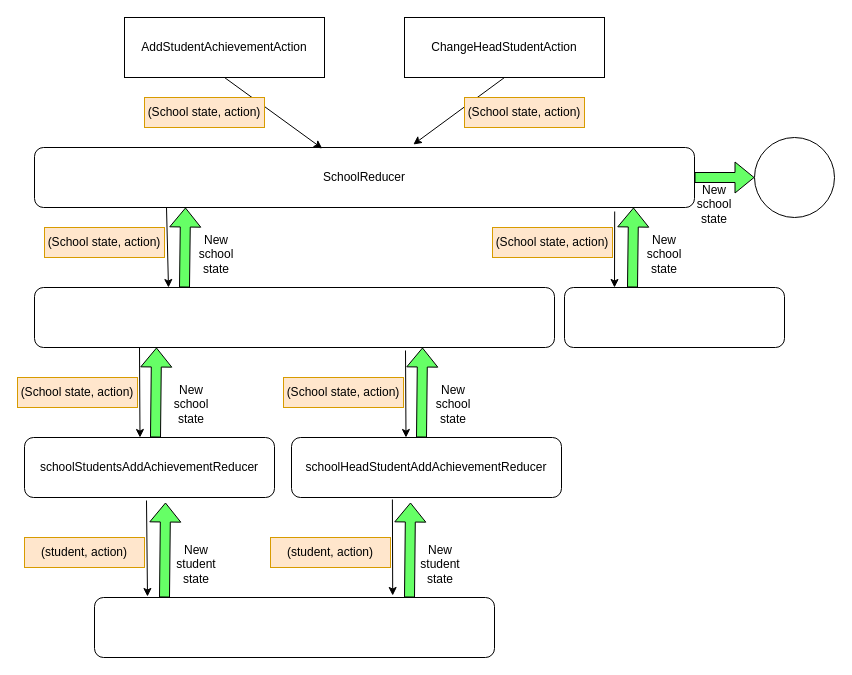
Some shapes in this 852 by 675 pixel diagram are drawn without their labels. The shapes that lost their labels are listed below. From the top down, each one's centre as x and y in pixels, then its label:
At [794,177]: "School state".
At [294,317]: "schoolAddStudentAchievementReducer".
At [674,317]: "schoolChangeHeadStudentReducer".
At [294,627]: "studentAddAchievementReducer".
